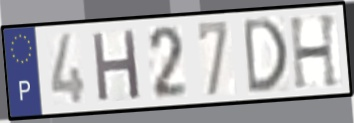2: (145, 24, 190, 102)
4: (48, 31, 88, 107)
7: (196, 20, 232, 99)
D: (241, 14, 289, 97)
H: (286, 11, 342, 92), (90, 26, 143, 105)
